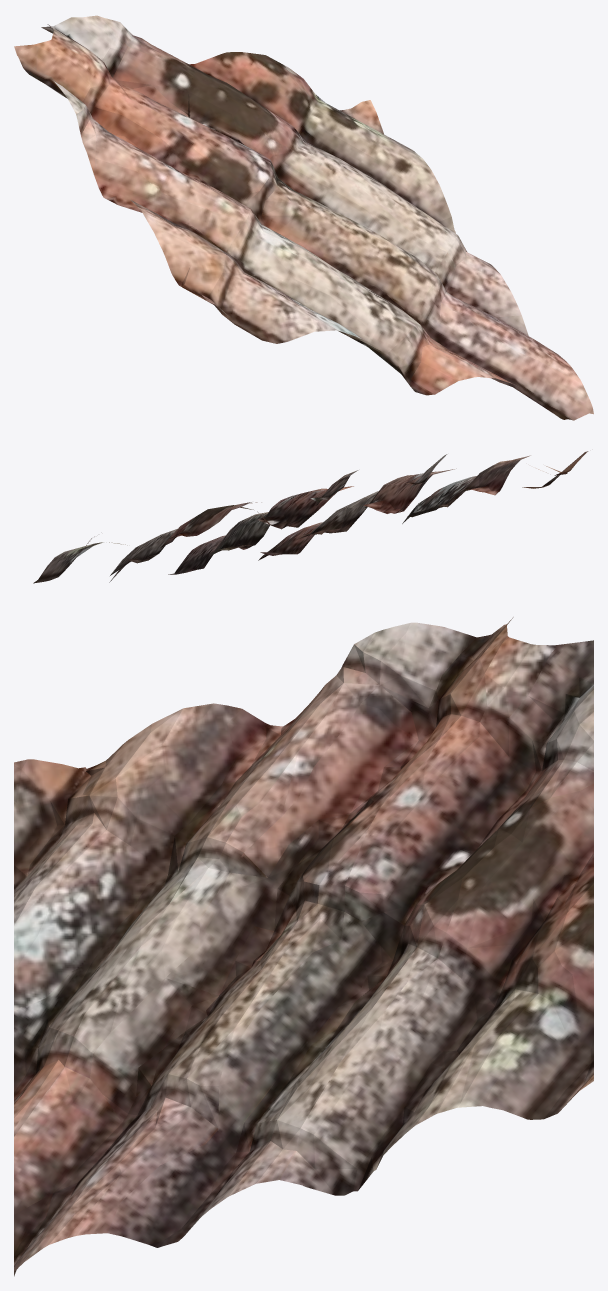
3 views of the same model, one above another, from view 1: azimuth 30°, elevation 25°; view 2: azimuth 150°, elevation 25°; view 3: azimuth 270°, elevation 25° (orthographic). The views are drawn at different scales.
Bounding box in the file's own units: 0.8373 × 0.6669 × 0.8373.
Materials: 3 (3 with a texture image).
